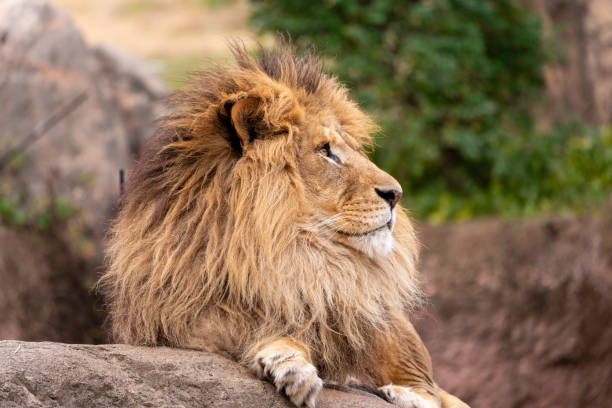lion: (68, 31, 444, 362)
